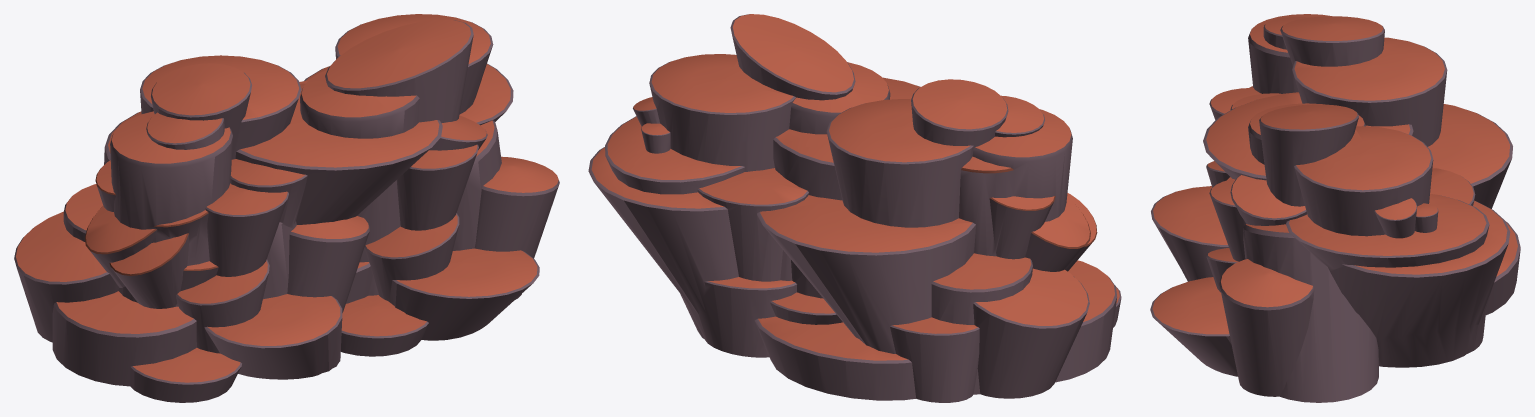
Rendered from Cliff5.fbx.
3 renders of one model, left to right at view 1: azimuth 30°, elevation 25°; view 2: azimuth 150°, elevation 25°; view 3: azimuth 270°, elevation 25°, orthographic. The views are drawn at different scales.
Parts seen in each view (by area): view 1: Model; view 2: Model; view 3: Model.
Boxes of the visible parts, box(x1,y1,x2,y2) form: Model: box(14, 14, 559, 402); Model: box(588, 14, 1121, 402); Model: box(1150, 14, 1520, 402).
Size of the model in its own units: 7069 by 3610 by 4869.
